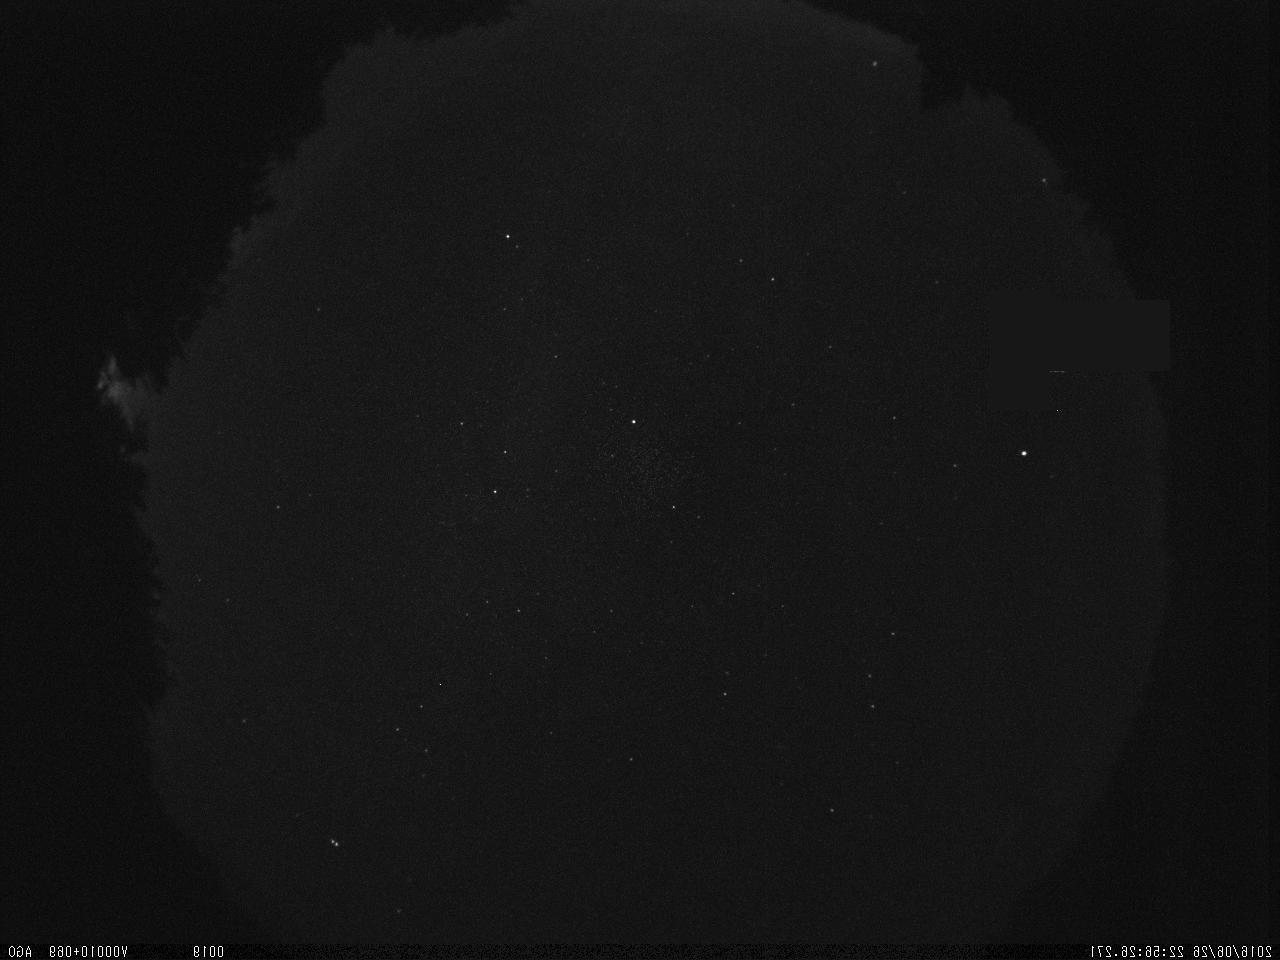meteor: (1027, 356, 1083, 390)
